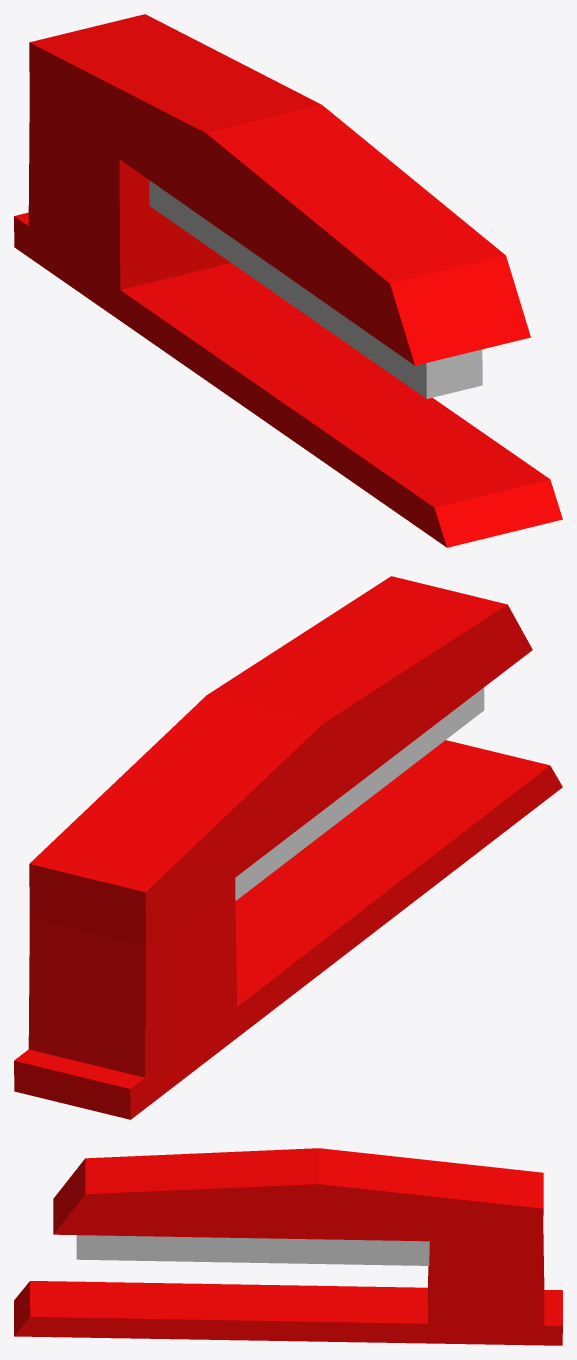
File: stapler.fbx
The picture shows the model from 3 angles, top to bottom: view 1: azimuth 30°, elevation 25°; view 2: azimuth 150°, elevation 25°; view 3: azimuth 270°, elevation 25°; orthographic projection. The views are drawn at different scales.
Parts seen in each view (by area): view 1: Cube; view 2: Cube; view 3: Cube.
Boxes of the visible parts, bbox=[...] form: Cube: bbox=[14, 14, 562, 547]; Cube: bbox=[14, 576, 562, 1119]; Cube: bbox=[14, 1148, 562, 1345].
Size of the model in its own units: 44.7 by 92.85 by 286.
